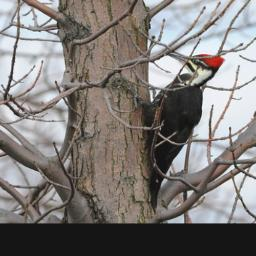Woodpecker: (138, 49, 225, 217)
